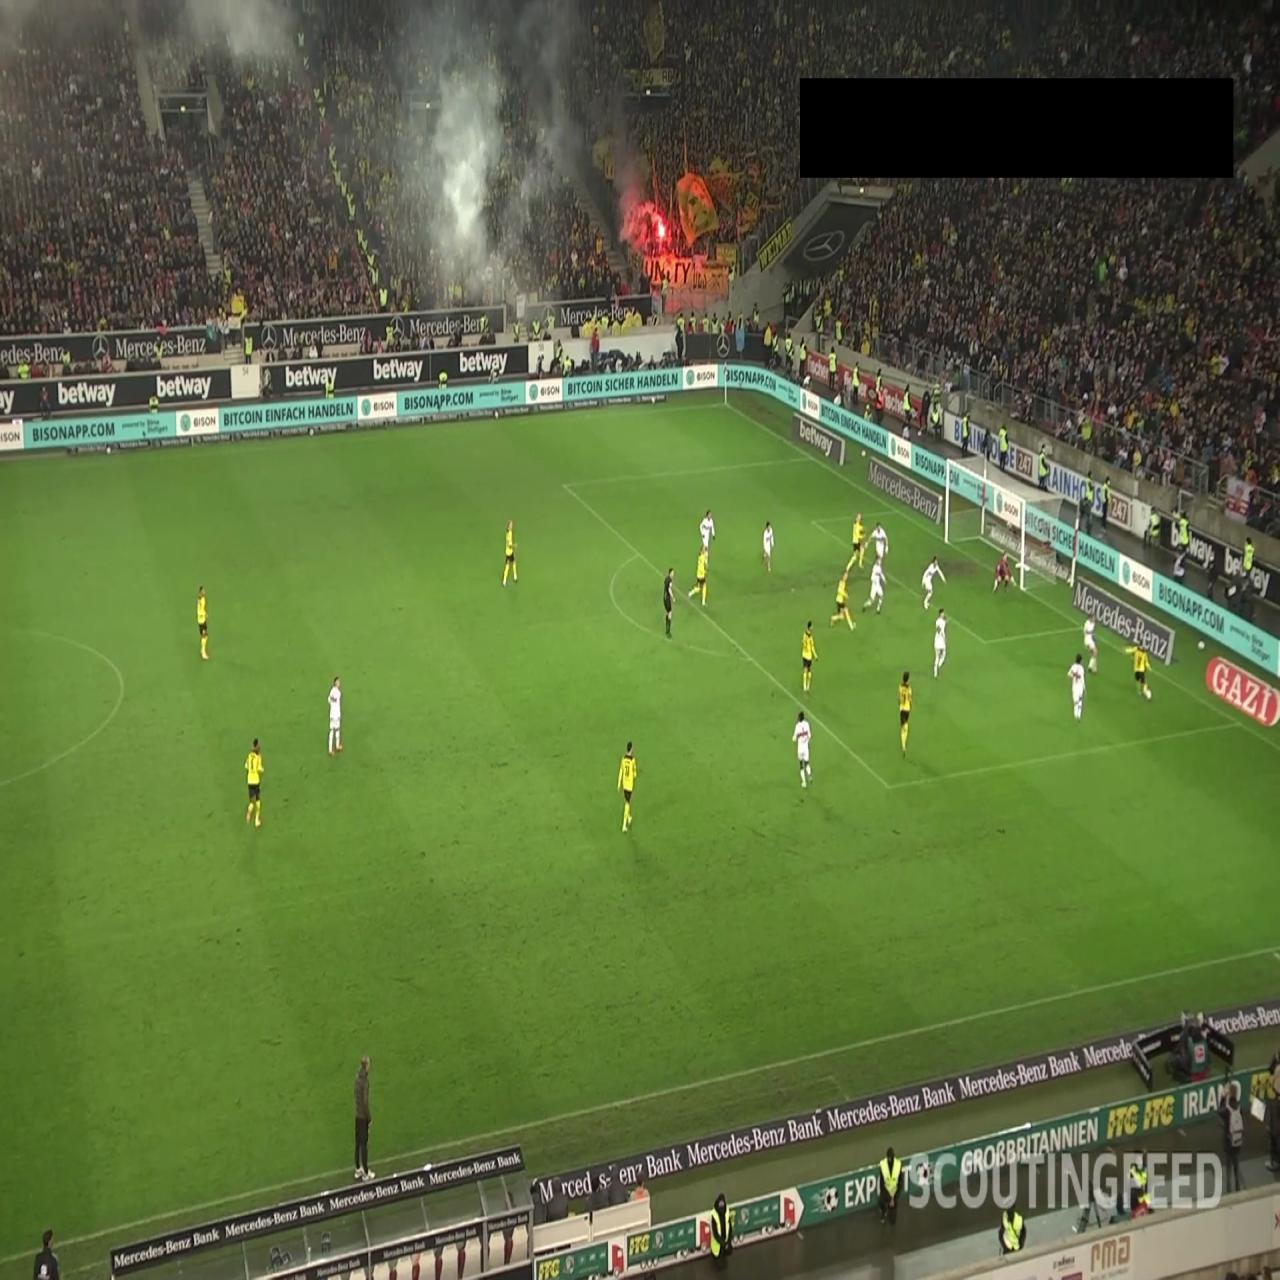Ball: (1144, 684, 1154, 702)
GoalKeeper: (992, 551, 1014, 594)
Player: (616, 740, 638, 833), (244, 737, 264, 829), (830, 568, 857, 630), (792, 710, 813, 789), (921, 554, 947, 612), (897, 670, 913, 760), (1066, 652, 1086, 722), (801, 620, 819, 693), (862, 560, 886, 614), (689, 546, 710, 606), (501, 519, 519, 587), (327, 676, 342, 756), (1132, 644, 1152, 700), (866, 520, 889, 568), (934, 606, 948, 680), (1083, 610, 1099, 674), (197, 584, 210, 660), (700, 508, 716, 564), (852, 512, 866, 569), (762, 520, 775, 572)
Referee: (662, 568, 674, 639)
